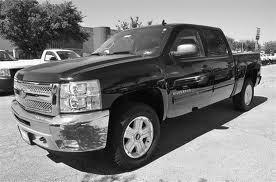car: (12, 22, 262, 172)
